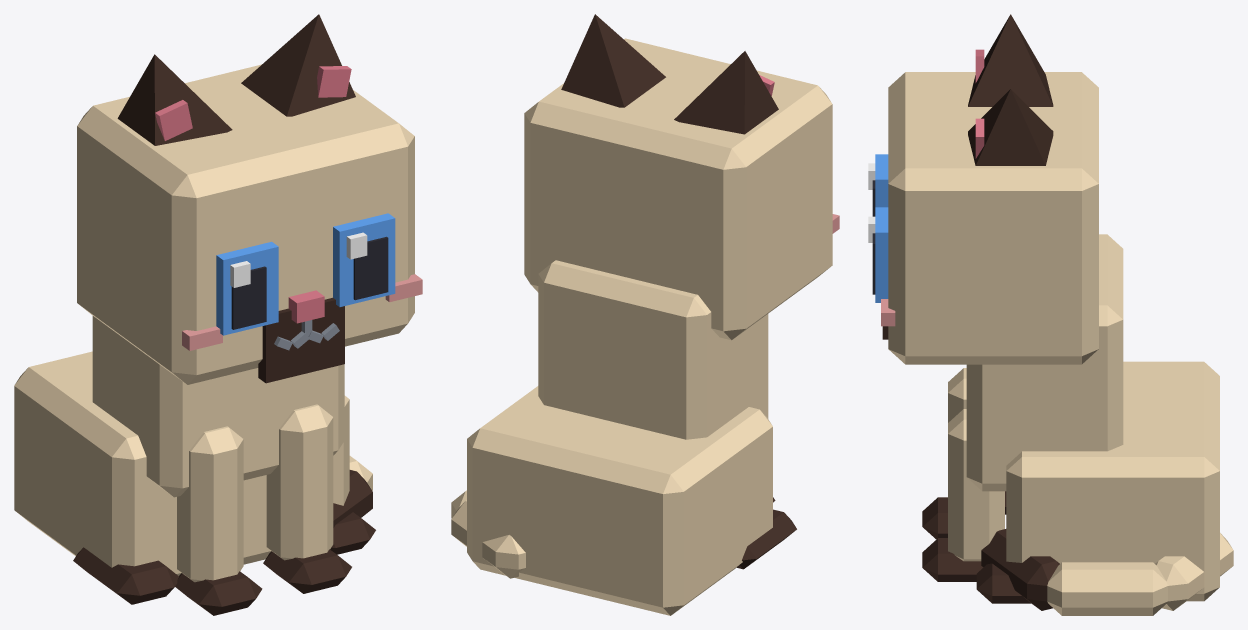
The model's file is CatCafe_Cat_Siamese_Sit.fbx.
3 renders of one model, left to right at view 1: azimuth 30°, elevation 25°; view 2: azimuth 150°, elevation 25°; view 3: azimuth 270°, elevation 25°, orthographic. The views are drawn at different scales.
Visible parts, largest first — view 1: CatCafe_Cat_Siamese_Sit_Head, CatCafe_Cat_Siamese_Sit_Body, CatCafe_Cat_Siamese_Sit_LegF1, CatCafe_Cat_Siamese_Sit_LegF2, CatCafe_Cat_Siamese_Sit_EarL, CatCafe_Cat_Siamese_Sit_EarR, CatCafe_Cat_Siamese_Sit_Eye1, CatCafe_Cat_Siamese_Sit_Eye2, CatCafe_Cat_Siamese_Sit_Tail; view 2: CatCafe_Cat_Siamese_Sit_Body, CatCafe_Cat_Siamese_Sit_Head, CatCafe_Cat_Siamese_Sit_EarL, CatCafe_Cat_Siamese_Sit_EarR, CatCafe_Cat_Siamese_Sit_Tail; view 3: CatCafe_Cat_Siamese_Sit_Head, CatCafe_Cat_Siamese_Sit_Body, CatCafe_Cat_Siamese_Sit_Tail, CatCafe_Cat_Siamese_Sit_LegF1, CatCafe_Cat_Siamese_Sit_EarL, CatCafe_Cat_Siamese_Sit_EarR, CatCafe_Cat_Siamese_Sit_LegF2, CatCafe_Cat_Siamese_Sit_Eye1, CatCafe_Cat_Siamese_Sit_Eye2.
Part boxes in pixels (<box>): CatCafe_Cat_Siamese_Sit_Head: <box>77,64,422,384</box>; CatCafe_Cat_Siamese_Sit_Body: <box>14,316,375,604</box>; CatCafe_Cat_Siamese_Sit_LegF1: <box>263,404,351,593</box>; CatCafe_Cat_Siamese_Sit_LegF2: <box>175,426,262,615</box>; CatCafe_Cat_Siamese_Sit_EarL: <box>241,14,355,116</box>; CatCafe_Cat_Siamese_Sit_EarR: <box>117,54,232,145</box>; CatCafe_Cat_Siamese_Sit_Eye1: <box>333,213,395,306</box>; CatCafe_Cat_Siamese_Sit_Eye2: <box>216,241,278,335</box>; CatCafe_Cat_Siamese_Sit_Tail: <box>333,456,372,527</box>; CatCafe_Cat_Siamese_Sit_Body: <box>467,260,796,615</box>; CatCafe_Cat_Siamese_Sit_Head: <box>524,38,839,340</box>; CatCafe_Cat_Siamese_Sit_EarL: <box>561,14,665,107</box>; CatCafe_Cat_Siamese_Sit_EarR: <box>674,51,778,134</box>; CatCafe_Cat_Siamese_Sit_Tail: <box>451,490,525,578</box>; CatCafe_Cat_Siamese_Sit_Head: <box>881,72,1098,364</box>; CatCafe_Cat_Siamese_Sit_Body: <box>966,234,1219,603</box>; CatCafe_Cat_Siamese_Sit_Tail: <box>981,529,1233,615</box>; CatCafe_Cat_Siamese_Sit_LegF1: <box>922,409,1004,581</box>; CatCafe_Cat_Siamese_Sit_EarL: <box>968,89,1053,165</box>; CatCafe_Cat_Siamese_Sit_EarR: <box>968,14,1053,106</box>; CatCafe_Cat_Siamese_Sit_LegF2: <box>922,368,966,539</box>; CatCafe_Cat_Siamese_Sit_Eye1: <box>868,207,888,302</box>; CatCafe_Cat_Siamese_Sit_Eye2: <box>868,154,888,216</box>.
Bounding box in the file's own units: 1.05 × 1.85 × 1.22.
Materials: 1 (1 with a texture image).
